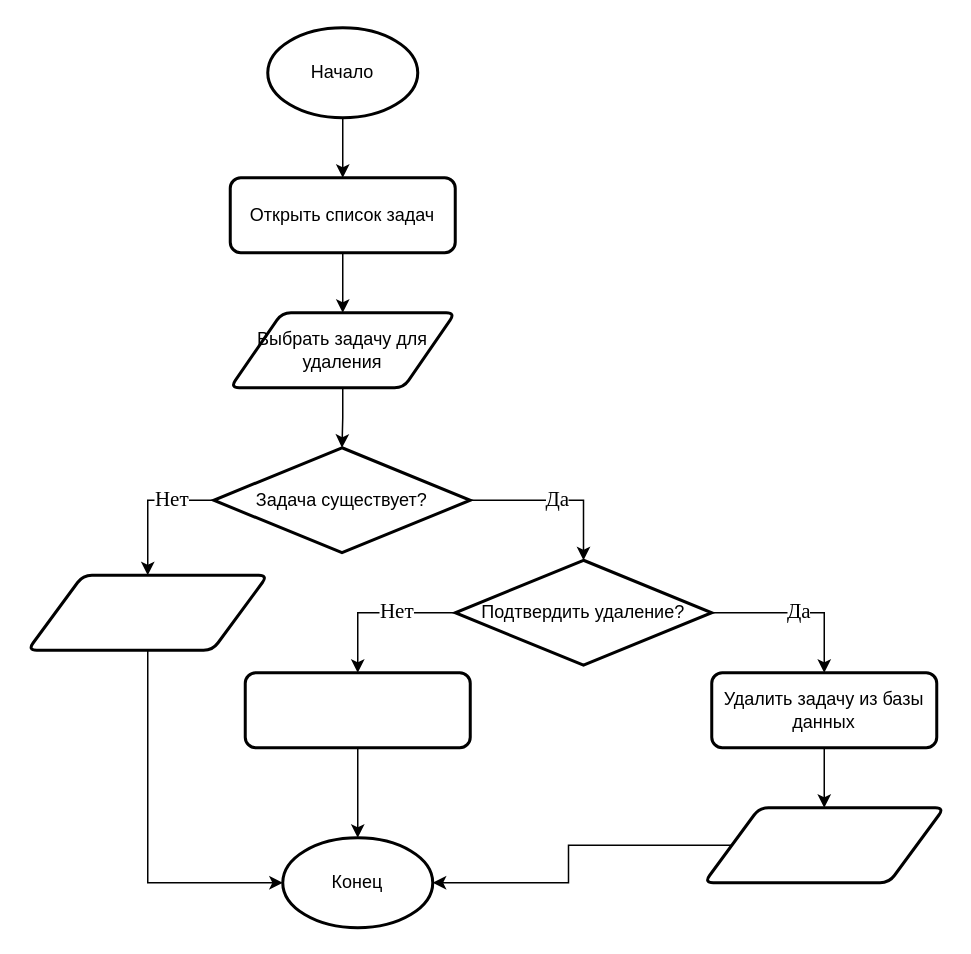
This 971x954 diagram has some shape labels left out. Each missing label, with the centre of its shape:
"Вывести сообщение об успешном удалении" belongs at [823,845].
"Вывести сообщение: задача не найдена" belongs at [147,612].
"Отменить удаление" belongs at [357,709].
